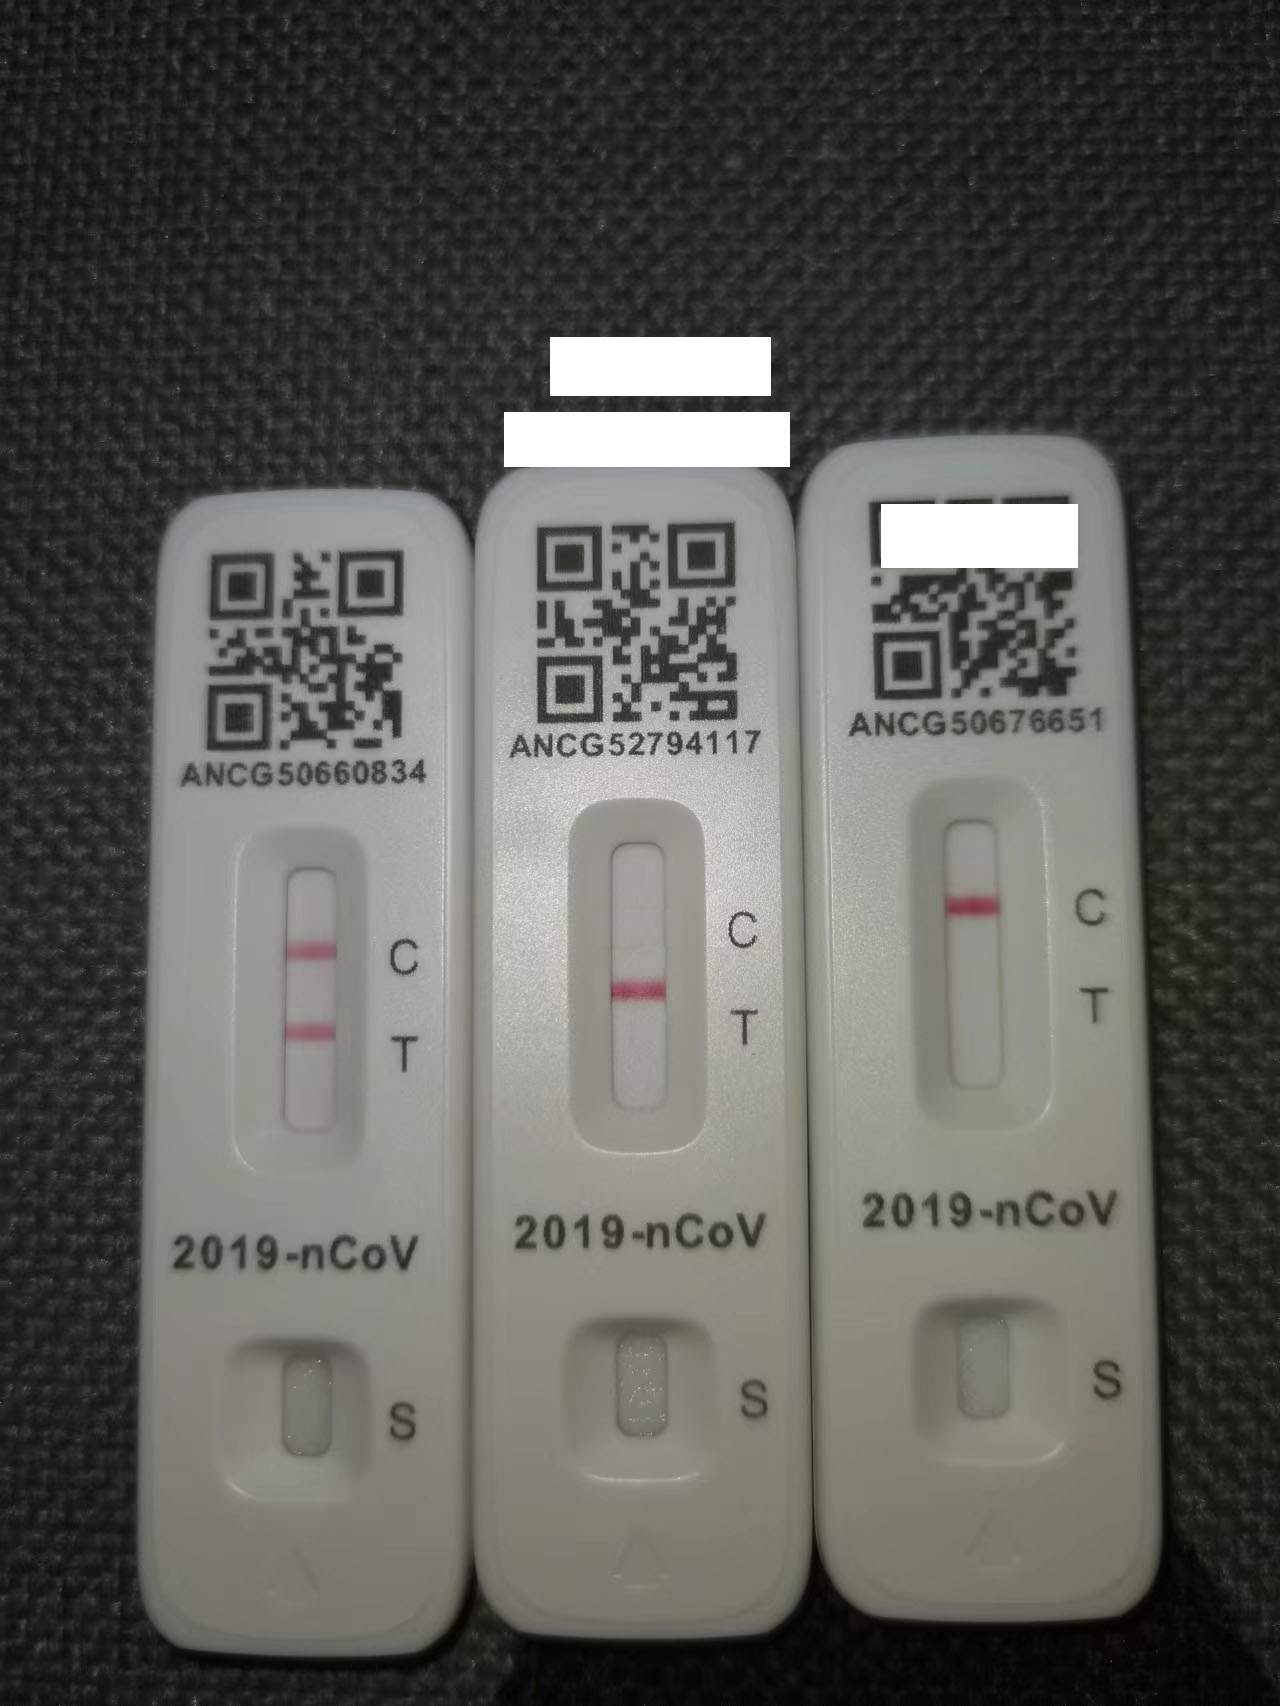negative: (909, 778, 1058, 1149), (569, 799, 709, 1160)
positive: (239, 827, 370, 1180)
